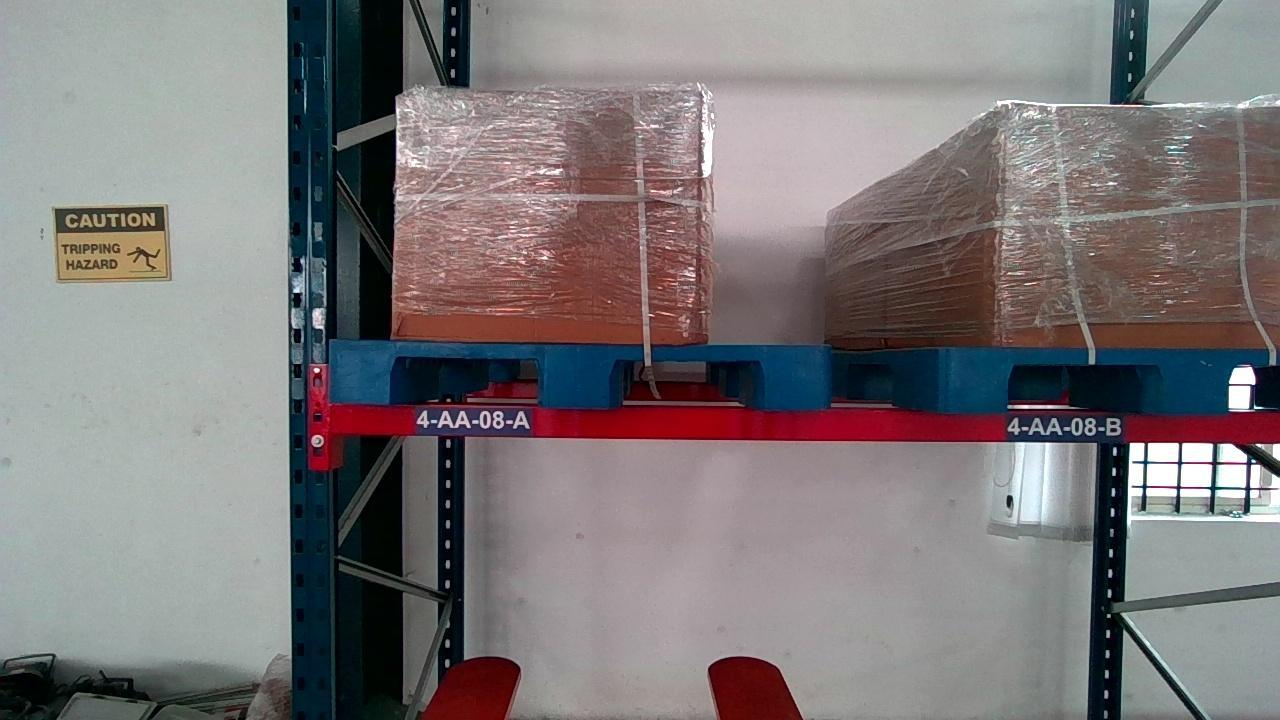h_rack: (321, 406, 1280, 445)
small_pallet: (332, 344, 827, 406), (955, 347, 1280, 410)
